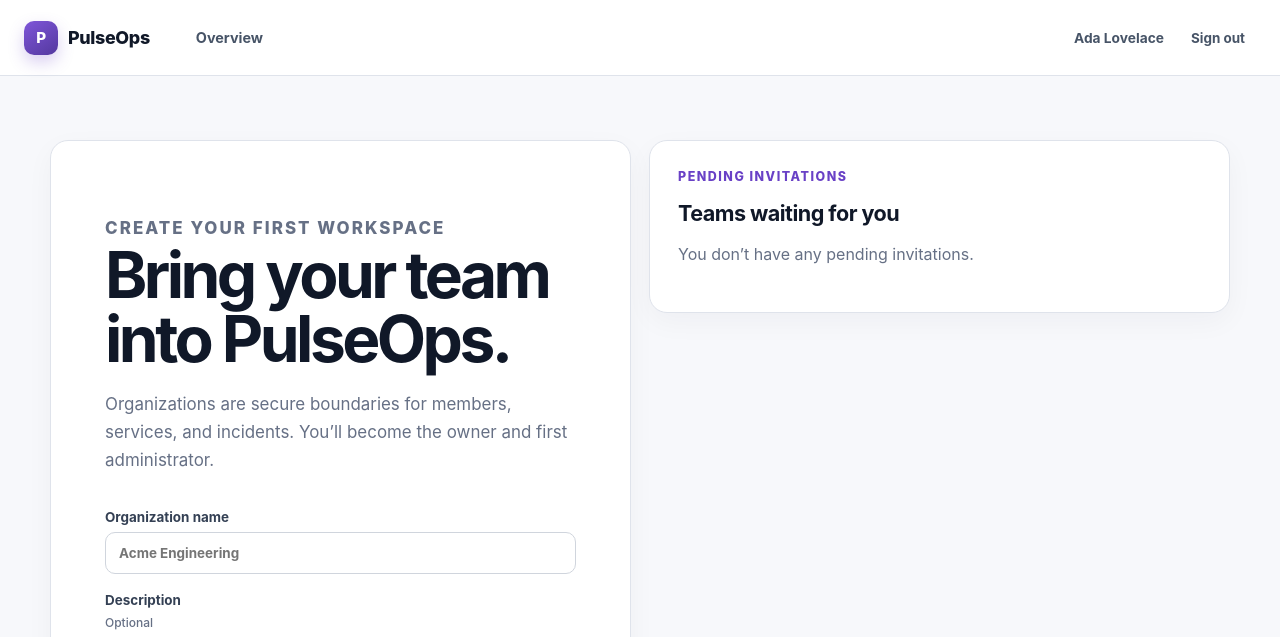
it: PulseOps authentication routes › creates the first organization from the empty workspace
expect the heading "Bring your team into PulseOps." is shown: met, box [105,243,576,371]
Type "Platform Team" into the field labelled "Organization name" at point(340, 553), box [105,532,576,574]
(page scrolled)
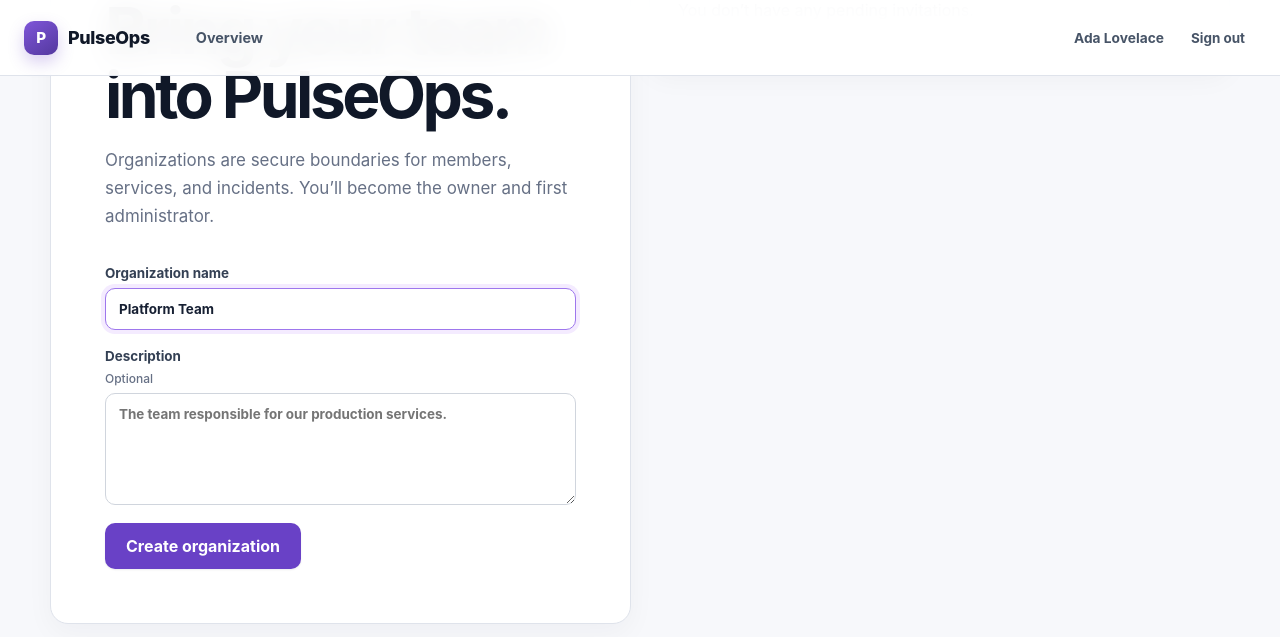
Click the button "Create organization" at point(203, 546), box [105,523,301,569]
(page scrolled)
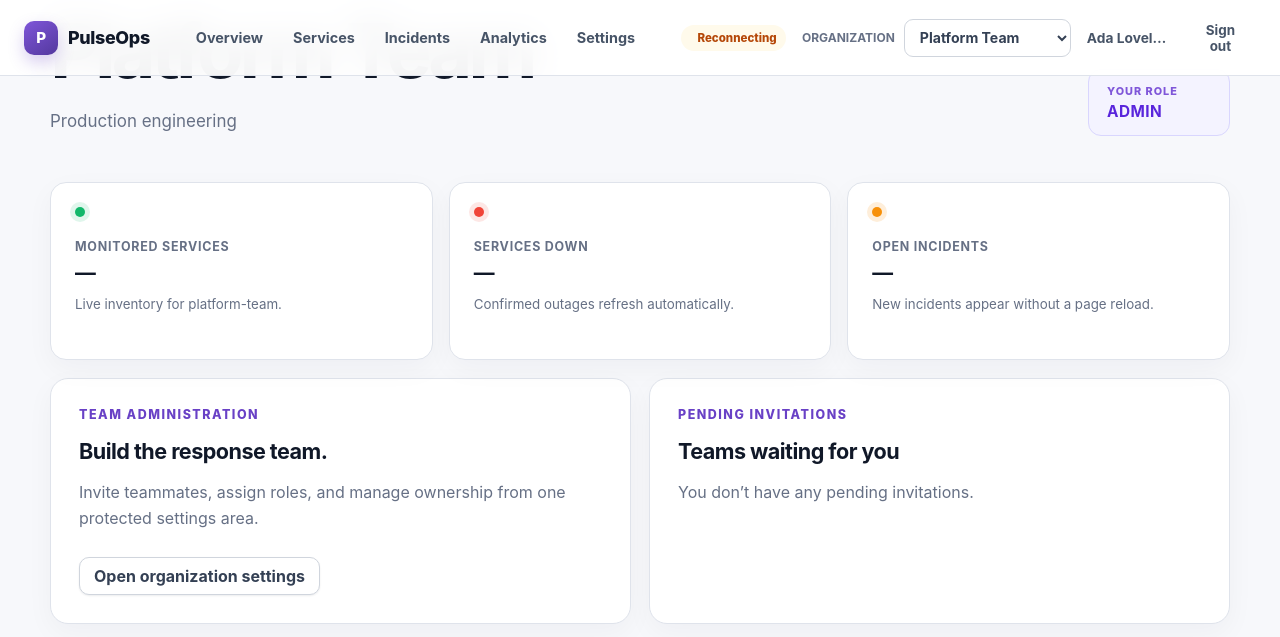
expect the heading "Platform Team" is shown: met, box [50,12,533,88]
